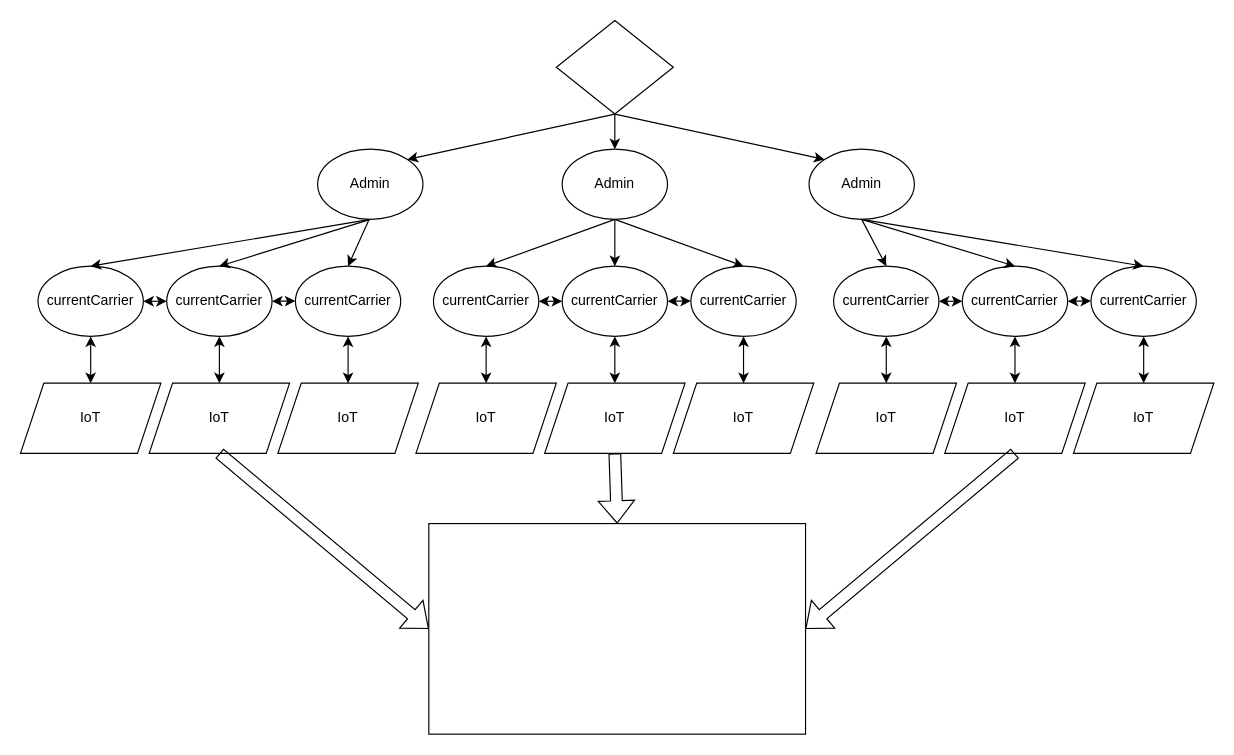
Image size: 1234x755. Some labels were removed from this diagram. Each missing label, with the centre of its shape:
"Blockchain" goes at (x=617, y=628).
"Owner" goes at (x=614, y=66).
